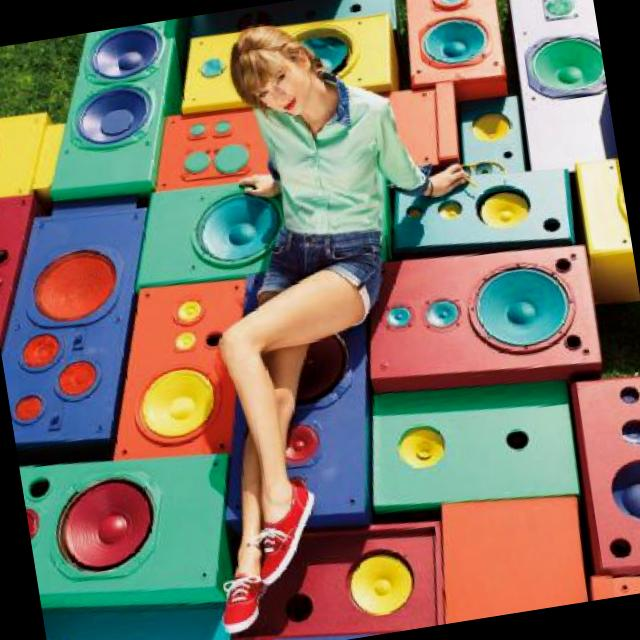Person: (113, 0, 507, 629)
